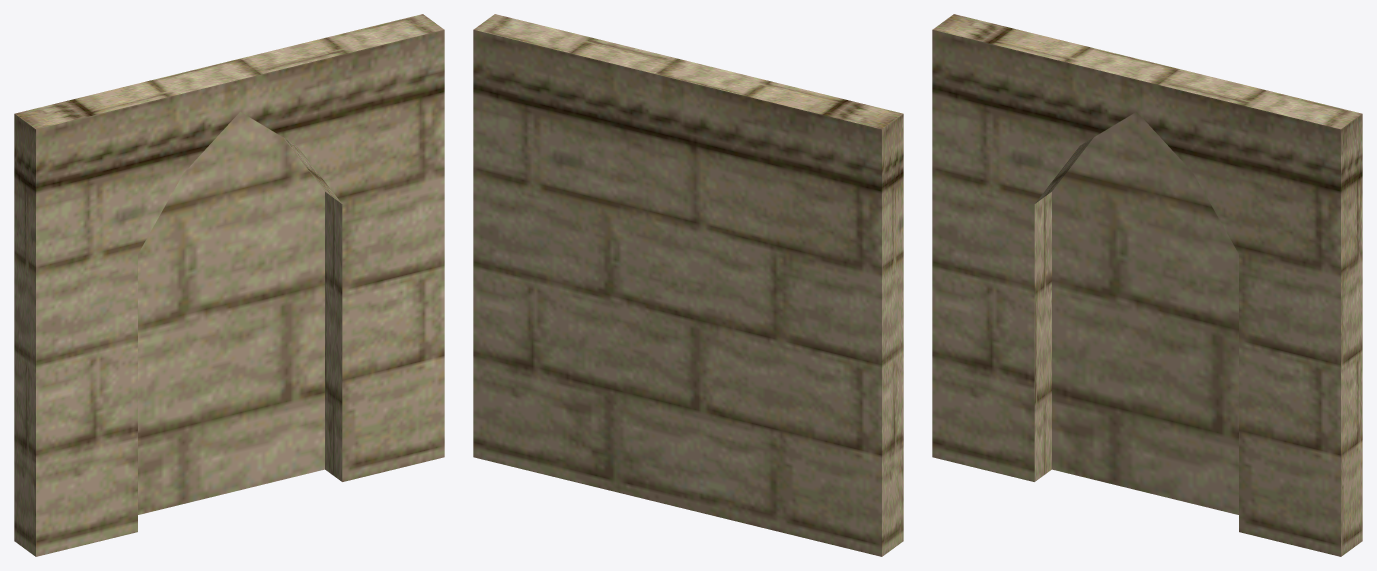
File: KnightPlace.fbx
The picture shows the model from 3 angles, left to right: view 1: azimuth 30°, elevation 25°; view 2: azimuth 150°, elevation 25°; view 3: azimuth 330°, elevation 25°; orthographic projection.
Visible parts, largest first — view 1: KnightPlace; view 2: KnightPlace; view 3: KnightPlace.
Part boxes in pixels (bbox=[...]): KnightPlace: bbox=[14, 14, 444, 556]; KnightPlace: bbox=[473, 14, 903, 556]; KnightPlace: bbox=[932, 14, 1362, 556].
Bounding box in the file's own units: 400 × 400 × 36.48.
